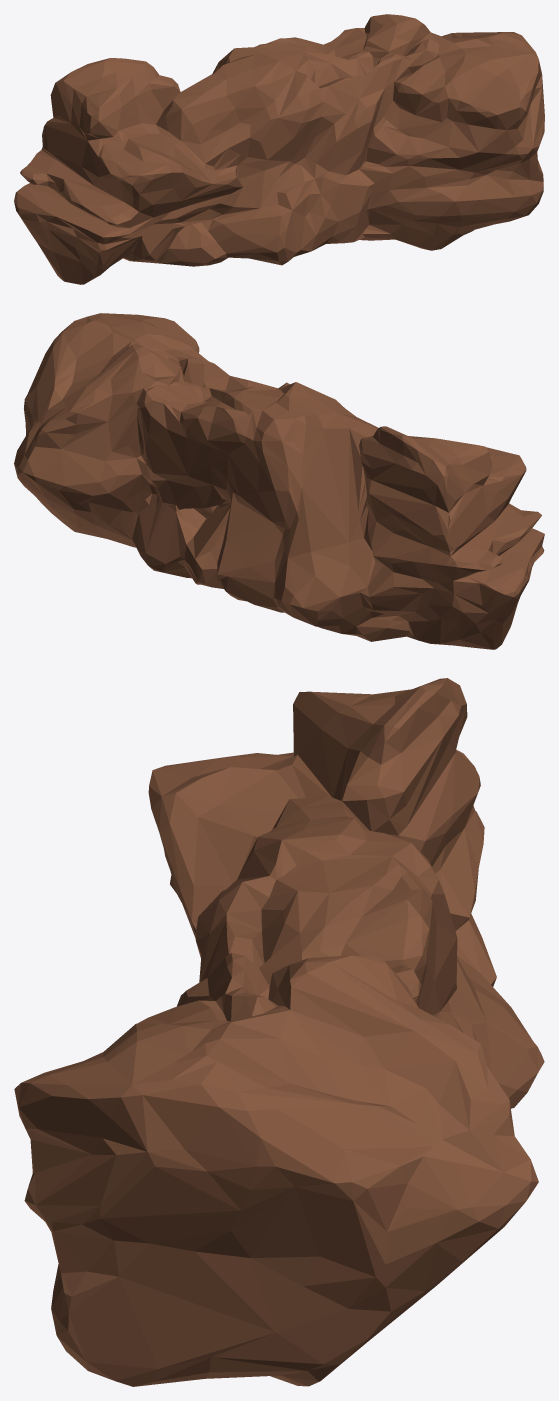
The model's file is bg-mesa-b.glb.
3 views of the same model, one above another, from view 1: azimuth 30°, elevation 25°; view 2: azimuth 150°, elevation 25°; view 3: azimuth 270°, elevation 25° (orthographic). The views are drawn at different scales.
Visible parts, largest first — view 1: SM_Env_Rock_Cliff_04; view 2: SM_Env_Rock_Cliff_04; view 3: SM_Env_Rock_Cliff_04.
Boxes of the visible parts, x1,y1,x2,y2 form: SM_Env_Rock_Cliff_04: (14, 14, 544, 284); SM_Env_Rock_Cliff_04: (14, 313, 544, 649); SM_Env_Rock_Cliff_04: (14, 678, 544, 1386).
Size of the model in its own units: 24.49 by 10.36 by 12.06.
Materials: 1 (1 with a texture image).
